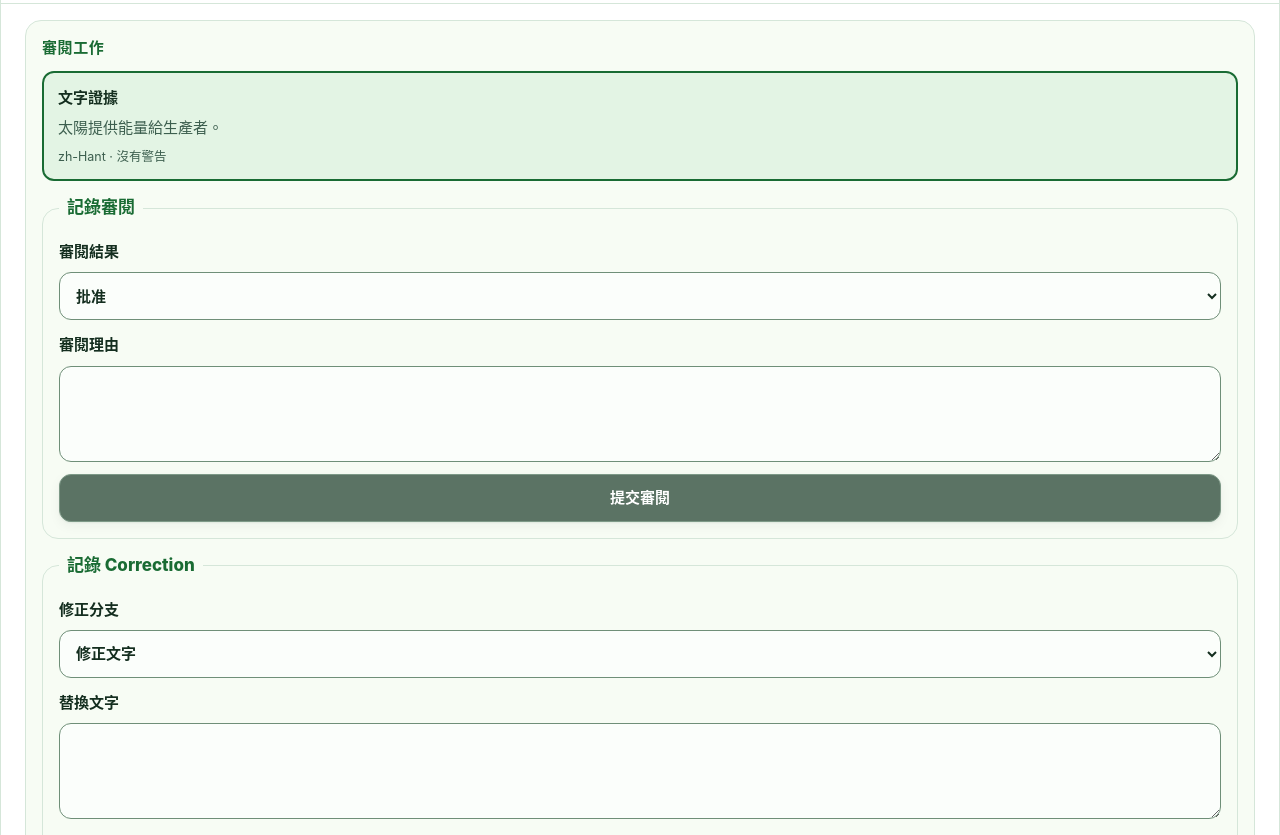
Test: teacher control panel › submits an artifact review with the exact server ECHO epoch/version and keeps UUIDs out of the DOM
(page scrolled)
Expected: the text "太陽提供能量給生產者。" is shown, [58,118,223,137]
Step 1. Type "證據與原始文字一致。" into the text box labelled "審閱理由" → (640, 414), box [59,366,1221,462]
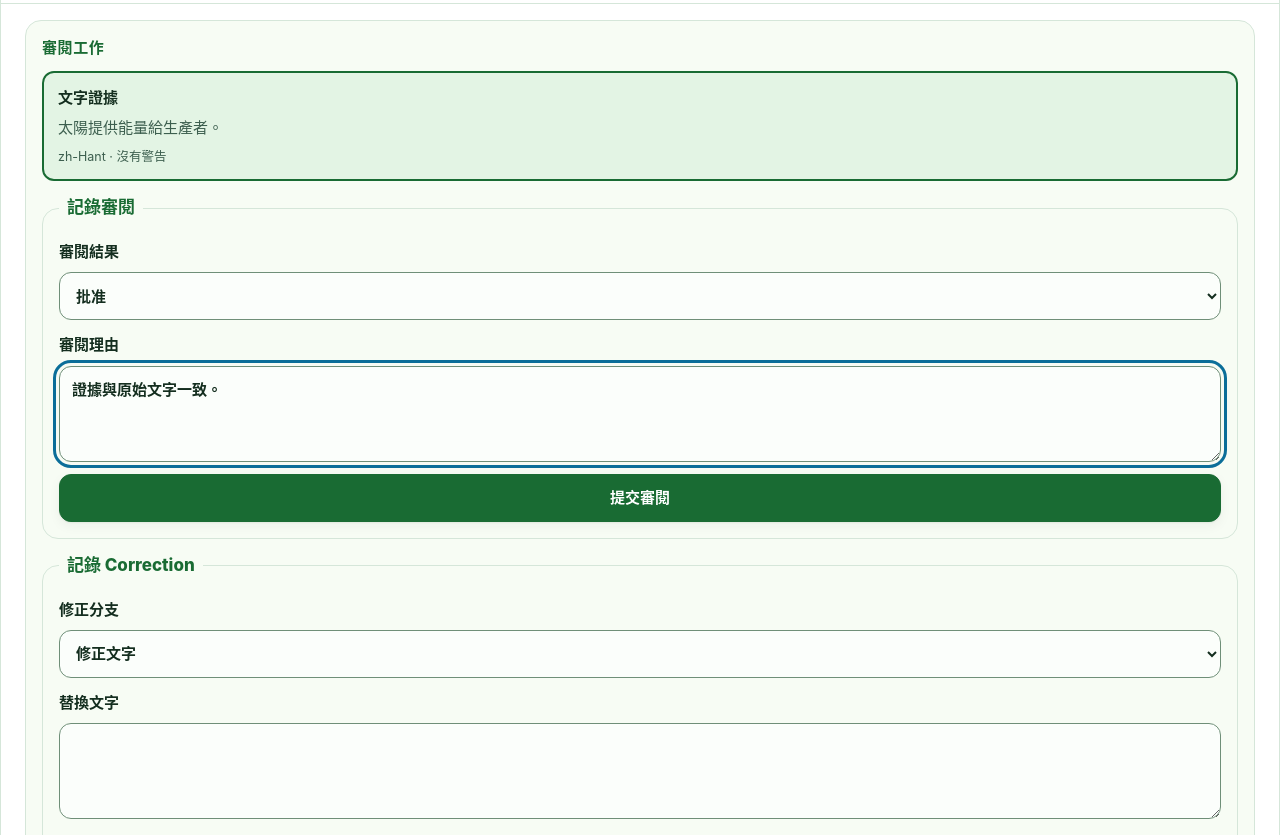
Step 2. Click the button "提交審閱" → (640, 498), box [59,474,1221,522]
(page scrolled)
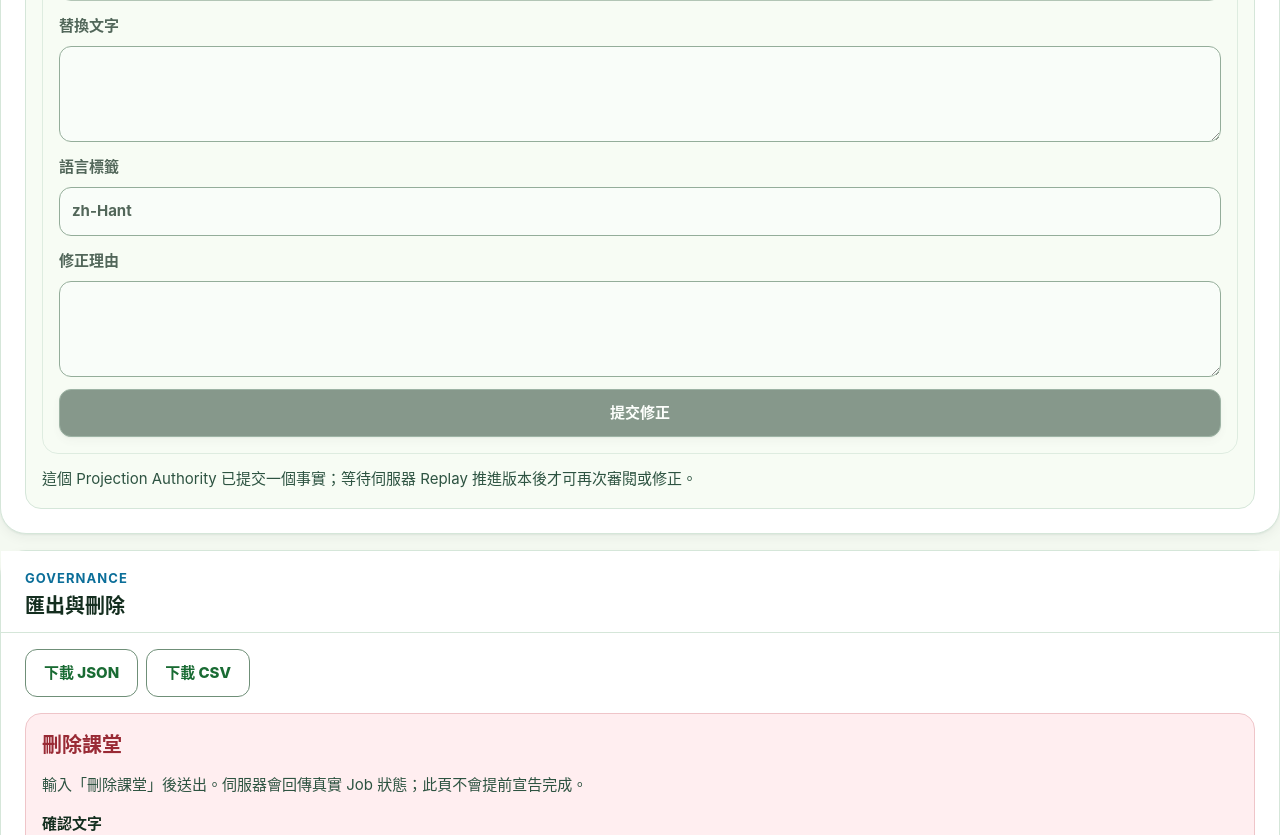
Expected: the button "提交修正" is disabled, [59,389,1221,437]
Expected: the text "這個 Projection Authority 已提交一個事實；等待伺服器 Replay 推進版本後才可再次審閱或修正。" is shown, [42,469,697,488]
